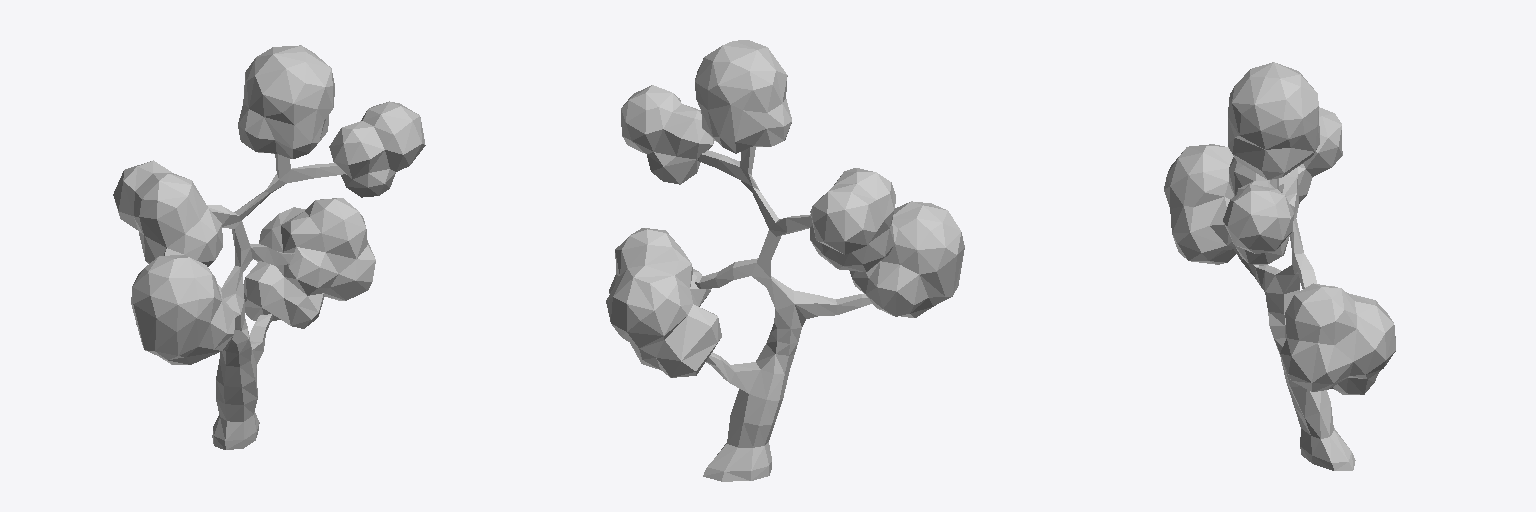
The model's file is tree4.obj.
The picture shows the model from 3 angles: view 1: azimuth 30°, elevation 25°; view 2: azimuth 150°, elevation 25°; view 3: azimuth 270°, elevation 25°; orthographic projection.
Visible parts, largest first — view 1: LowPoly_Tree_05_lowpoly_tree_03_Cube; view 2: LowPoly_Tree_05_lowpoly_tree_03_Cube; view 3: LowPoly_Tree_05_lowpoly_tree_03_Cube.
Boxes of the visible parts, <box> form: LowPoly_Tree_05_lowpoly_tree_03_Cube: <box>113,45,425,449</box>; LowPoly_Tree_05_lowpoly_tree_03_Cube: <box>606,40,964,481</box>; LowPoly_Tree_05_lowpoly_tree_03_Cube: <box>1164,62,1395,470</box>.
Size of the model in its own units: 3.35 by 4.11 by 2.16.